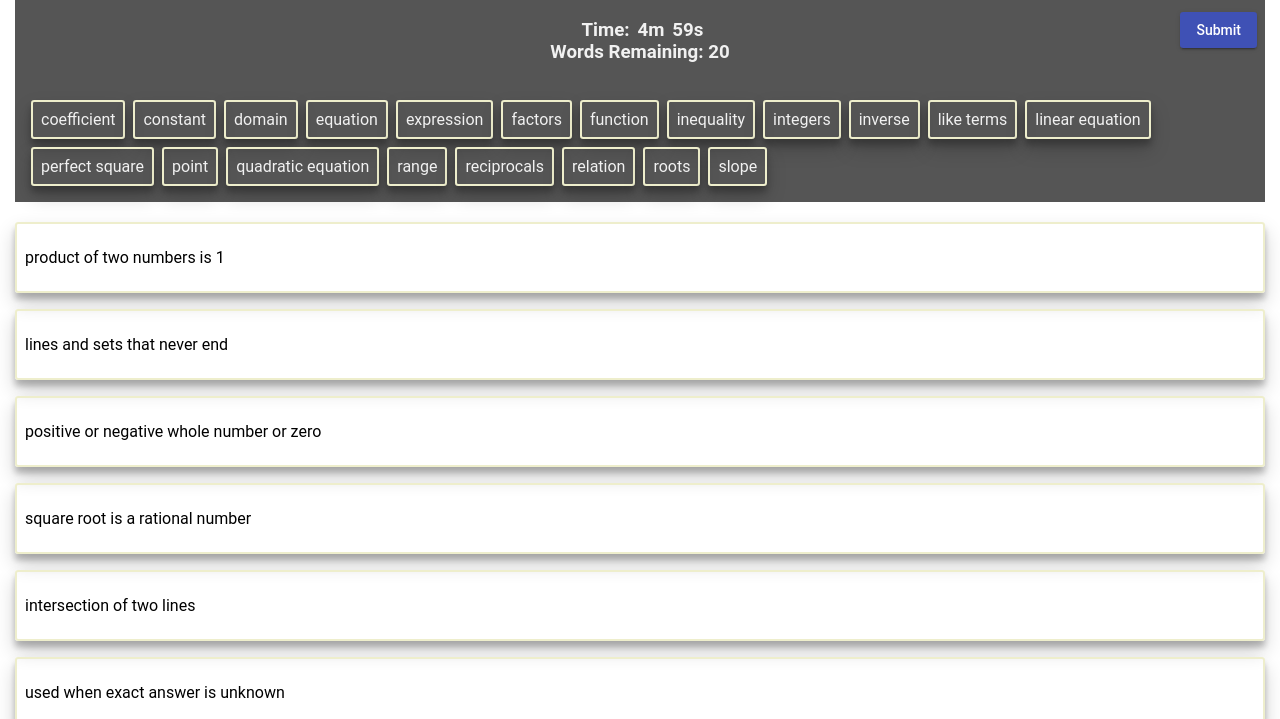
Test: Match test › Should assign first word to first definition
Expected: the text "Time" is shown, x1=581 y1=19 x2=634 y2=41
Click the text "coefficient" at (79, 120), box x1=31 y1=100 x2=126 y2=139
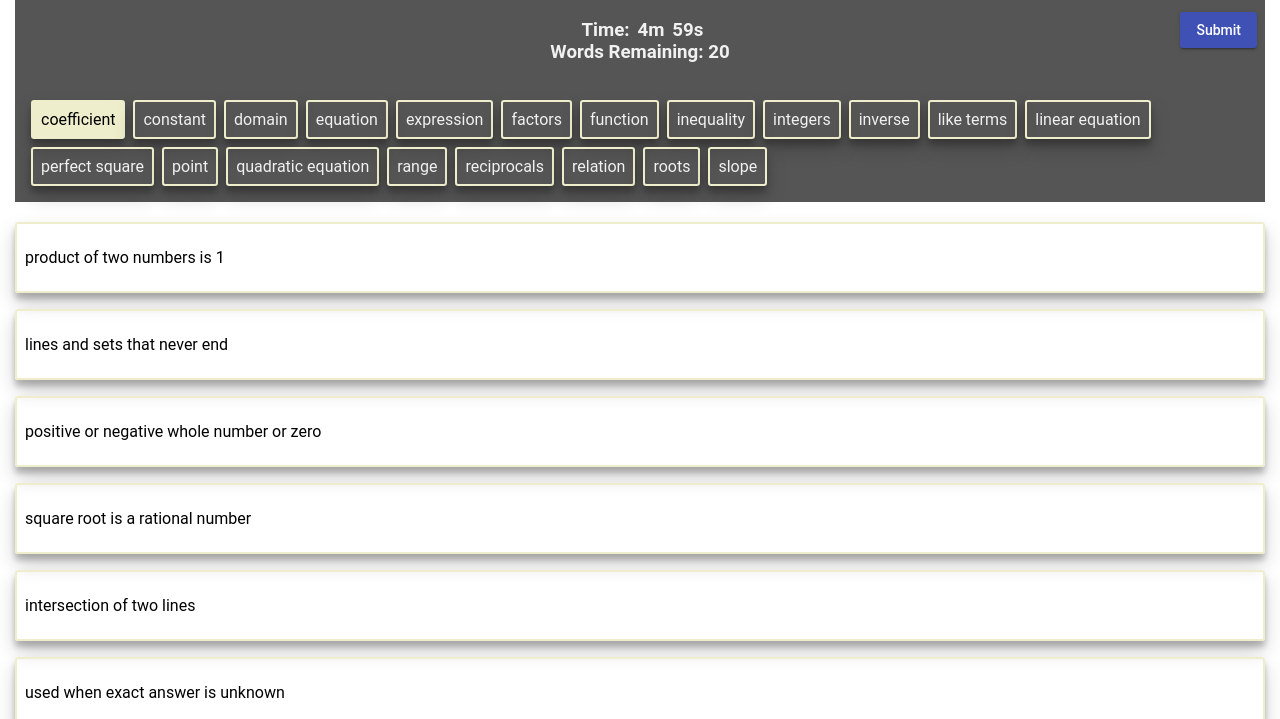
Click the element showing "product of two numbers is 1" at (640, 258), box x1=15 y1=222 x2=1265 y2=293
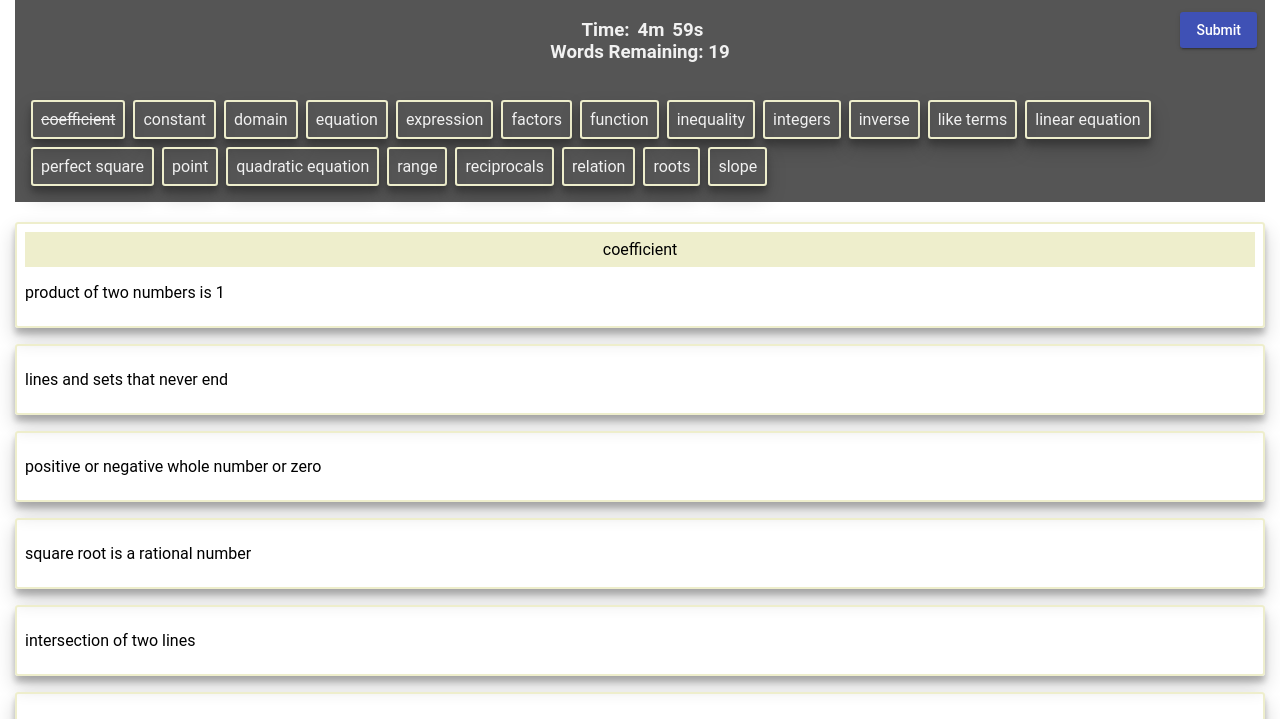
Now the 2nd text "coefficient" is shown, box x1=25 y1=232 x2=1255 y2=267
